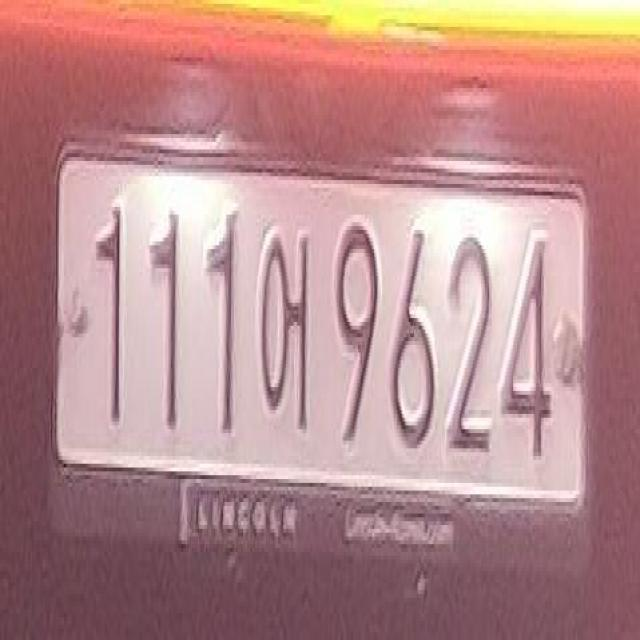illegal_plate: (58, 139, 592, 548)
